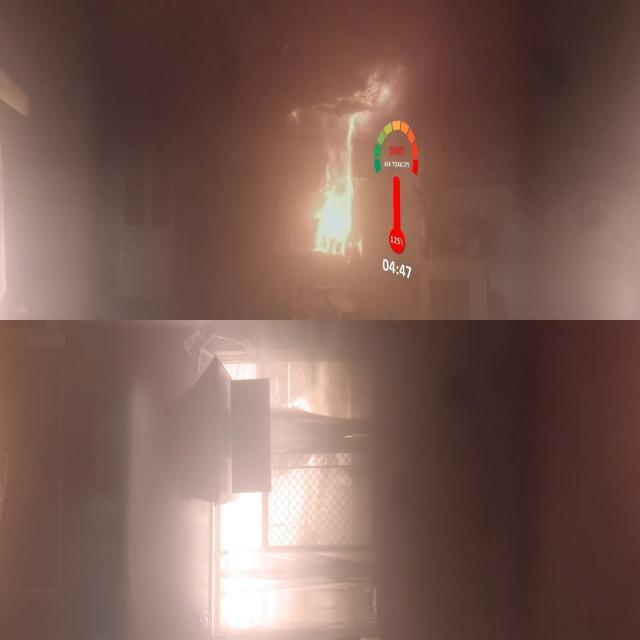Fire: (270, 60, 386, 336)
